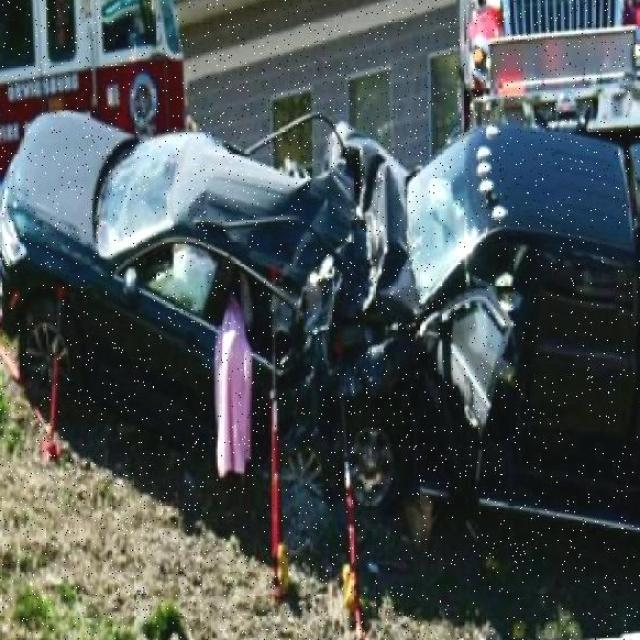accident: (6, 91, 640, 565)
